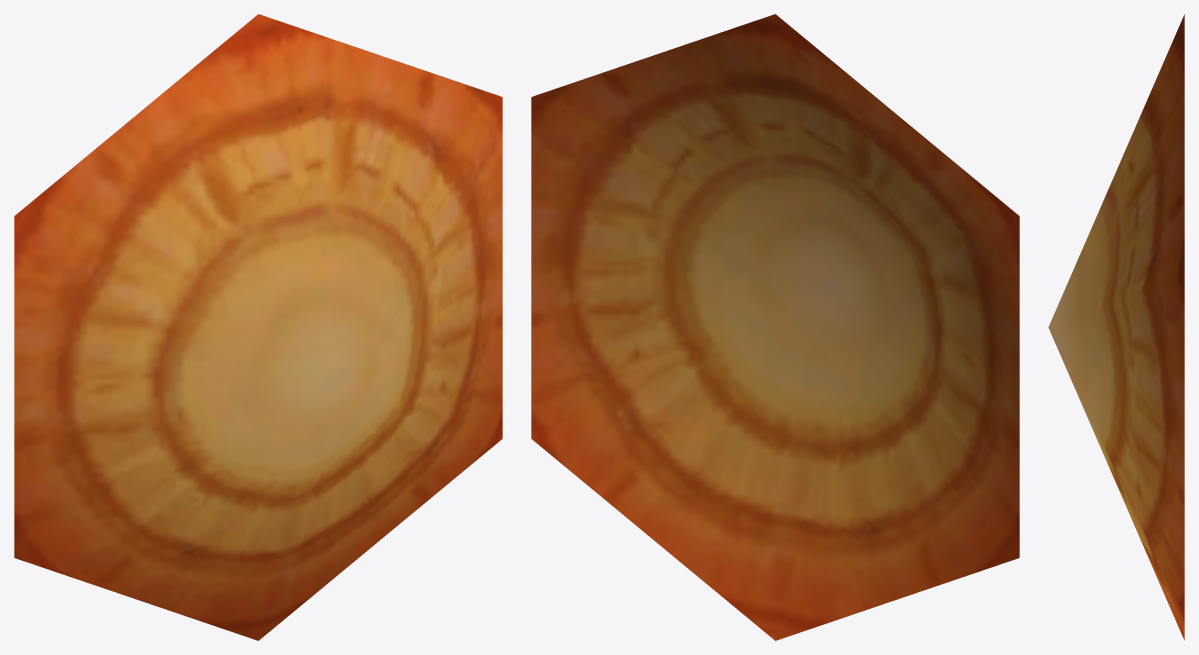
File: hutt_fighter_heavy_engine_s01_on_l1.fbx
3 renders of one model, left to right at view 1: azimuth 30°, elevation 25°; view 2: azimuth 150°, elevation 25°; view 3: azimuth 270°, elevation 25°, orthographic.
Parts seen in each view (by area): view 1: mesh_node; view 2: mesh_node; view 3: mesh_node.
Part boxes in pixels (x1,y1,x2,y2): mesh_node: (14,14,502,640); mesh_node: (531,14,1019,640); mesh_node: (1048,14,1184,640).
Size of the model in its own units: 3.32 by 4.08 by 0.8025.
1 material, 1 textured.
